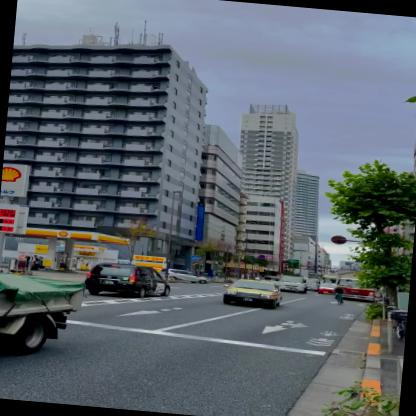bus: (334, 275, 380, 304)
car: (80, 261, 174, 302), (224, 278, 287, 312), (166, 268, 210, 286)
truck: (276, 276, 310, 294)
